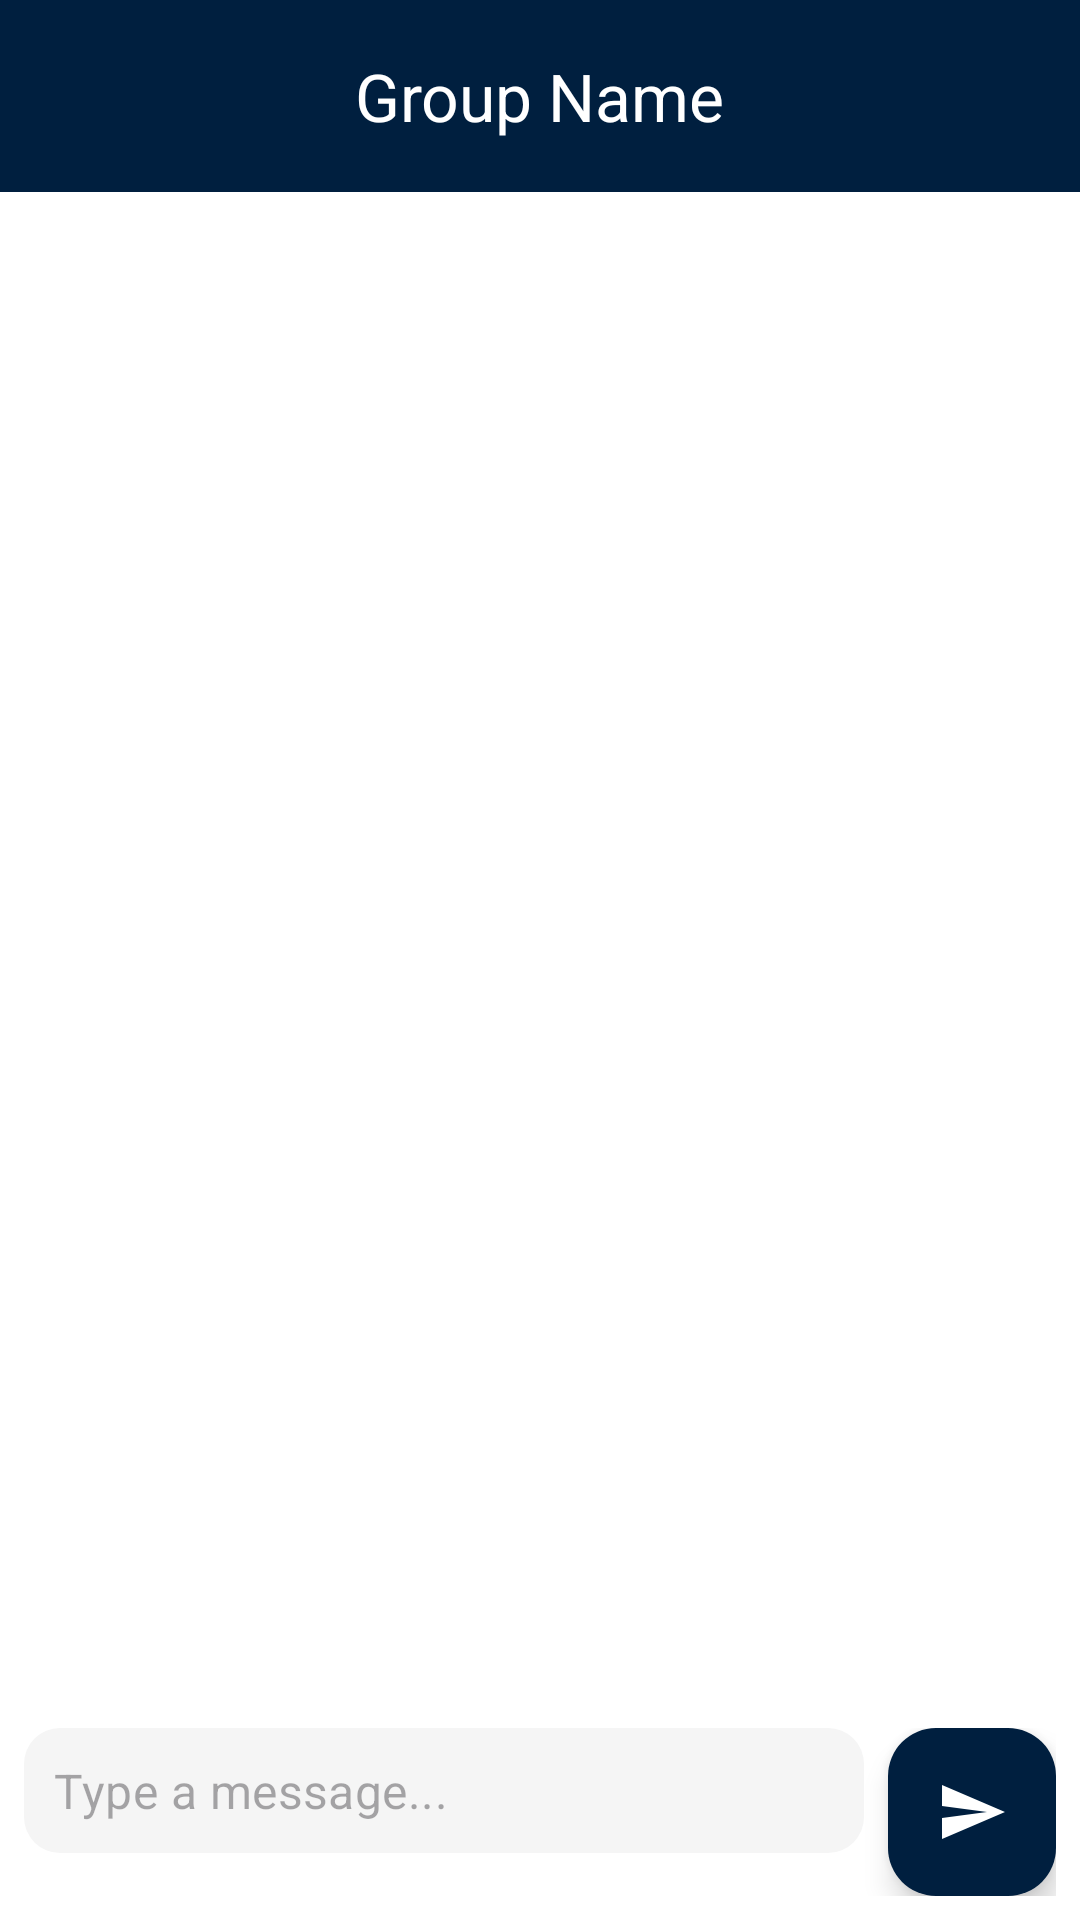

Where to tap for icons on this 1080w x 1920h app screen, as point (x, y):
Send message: point (972, 1812)
